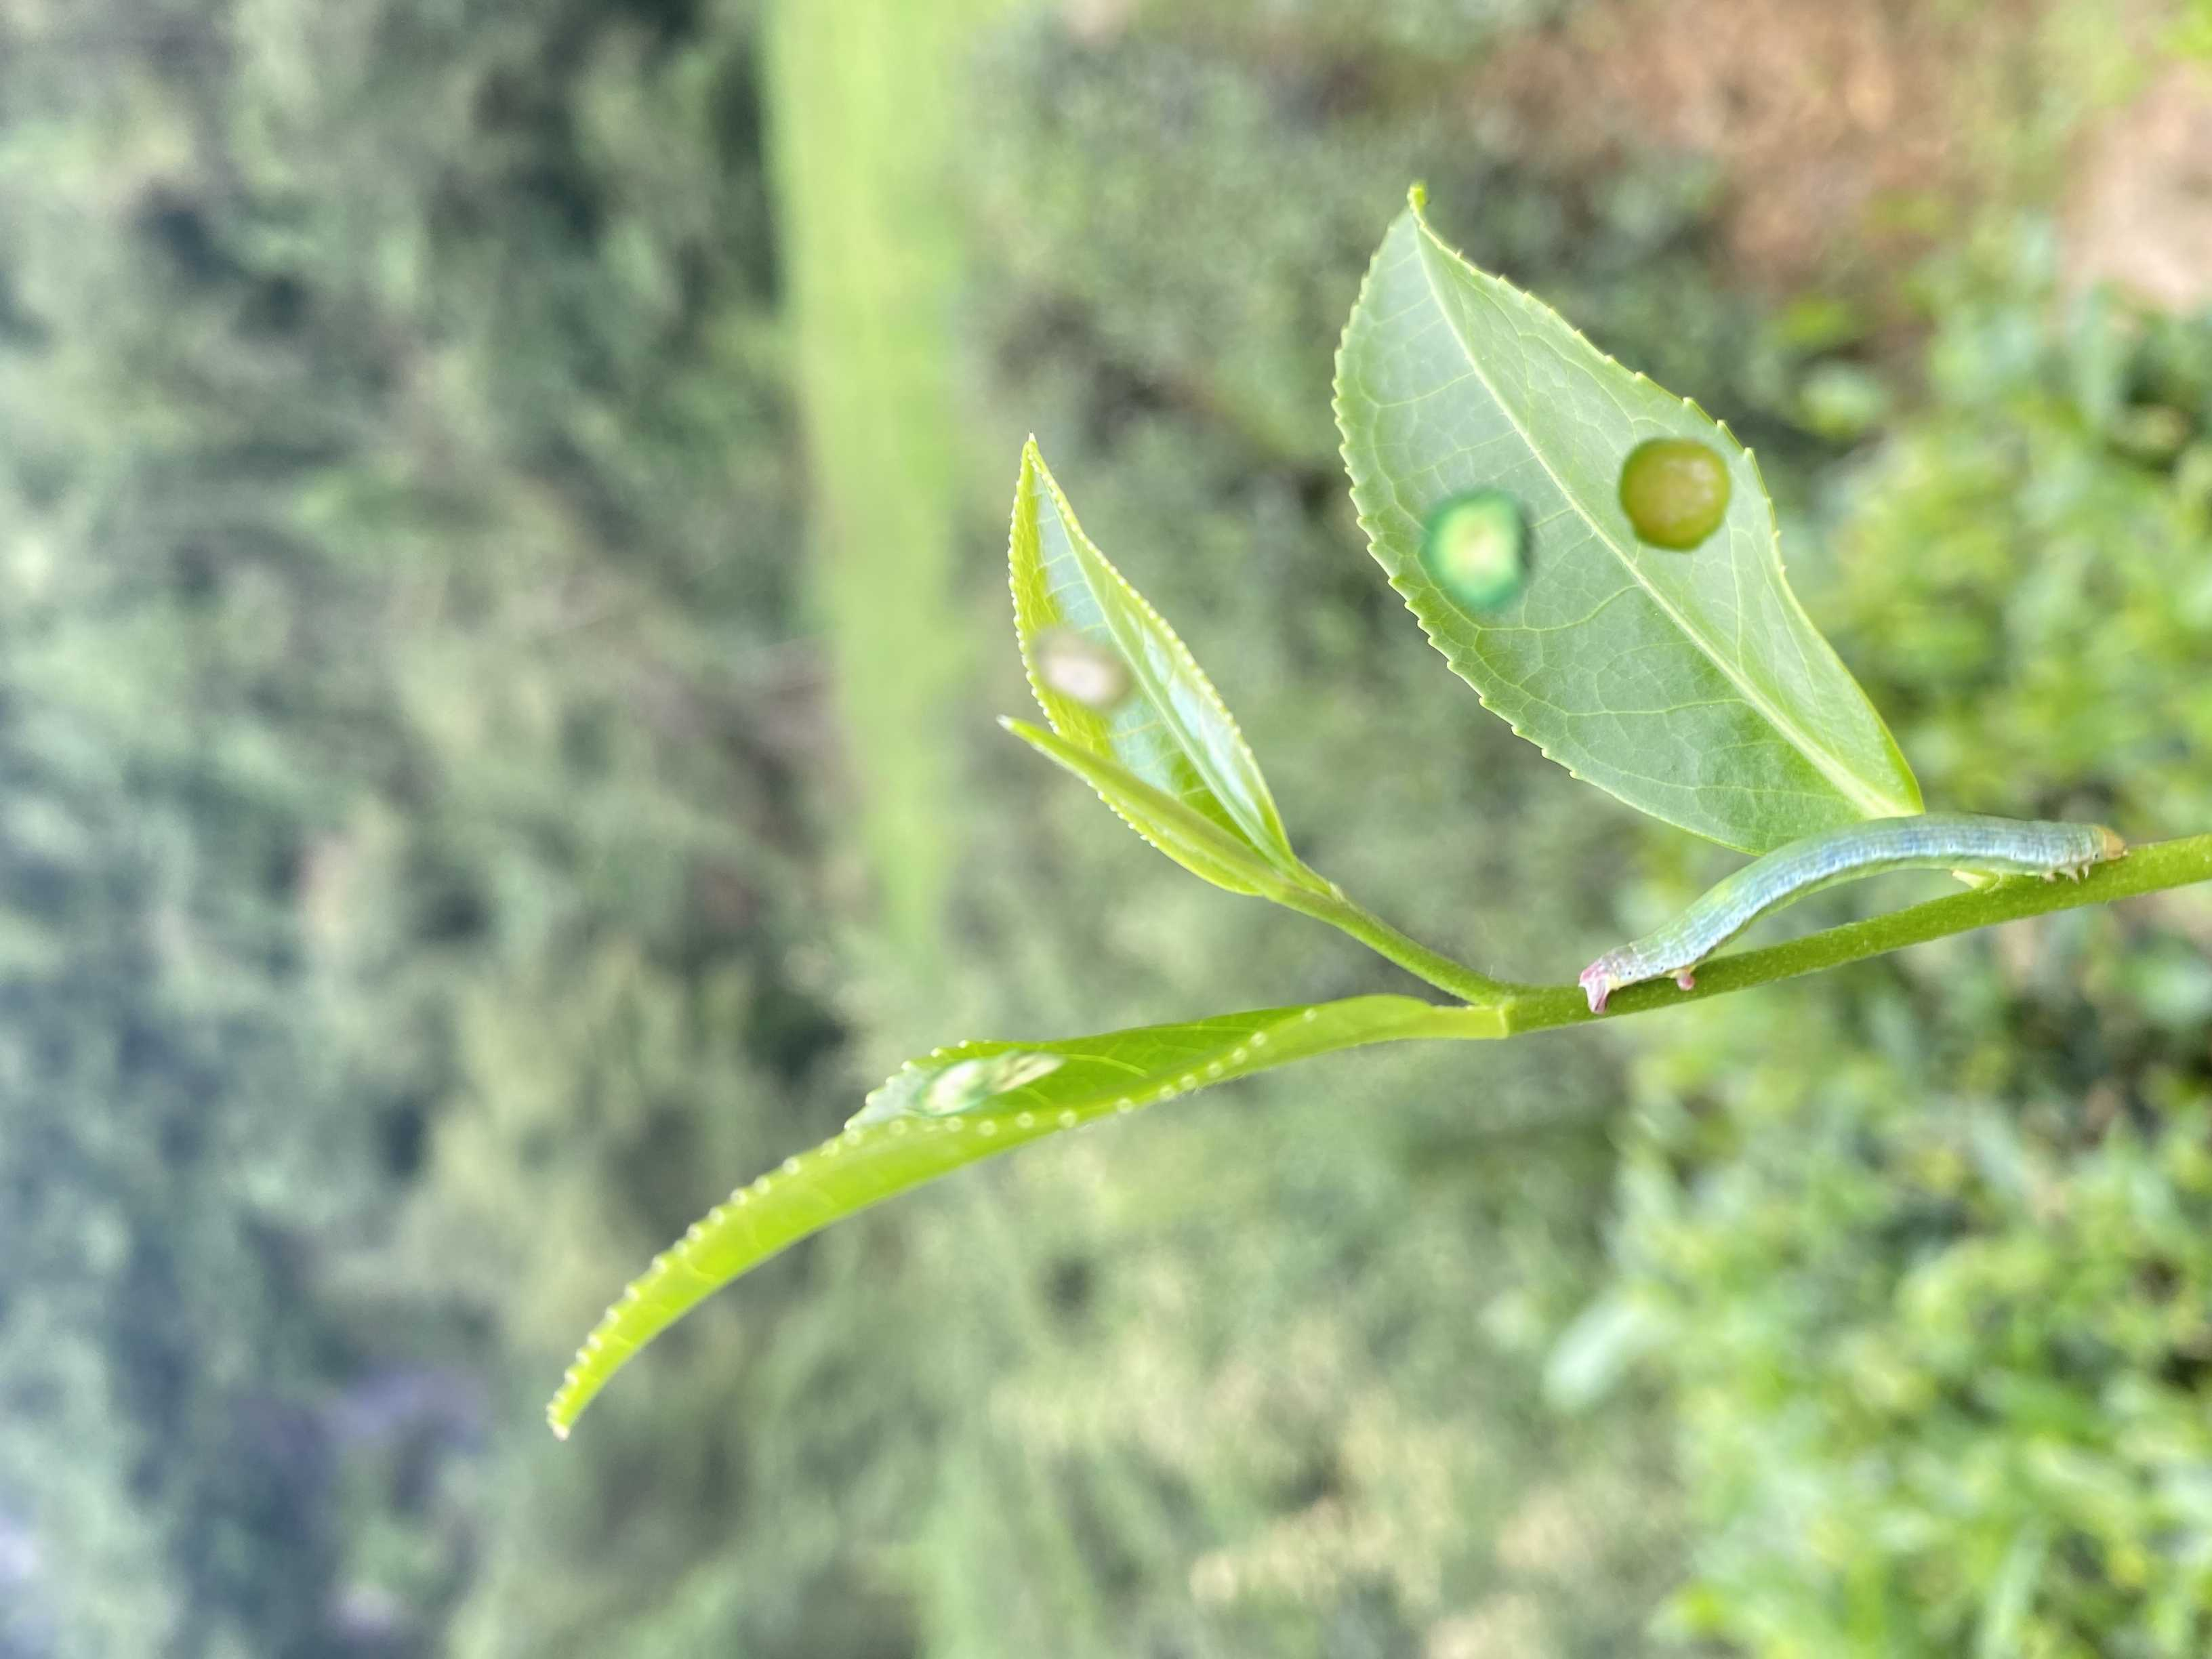chabing_high: (1325, 178, 1925, 859)
chabing_low: (547, 993, 1425, 1441), (1003, 430, 1292, 899)
